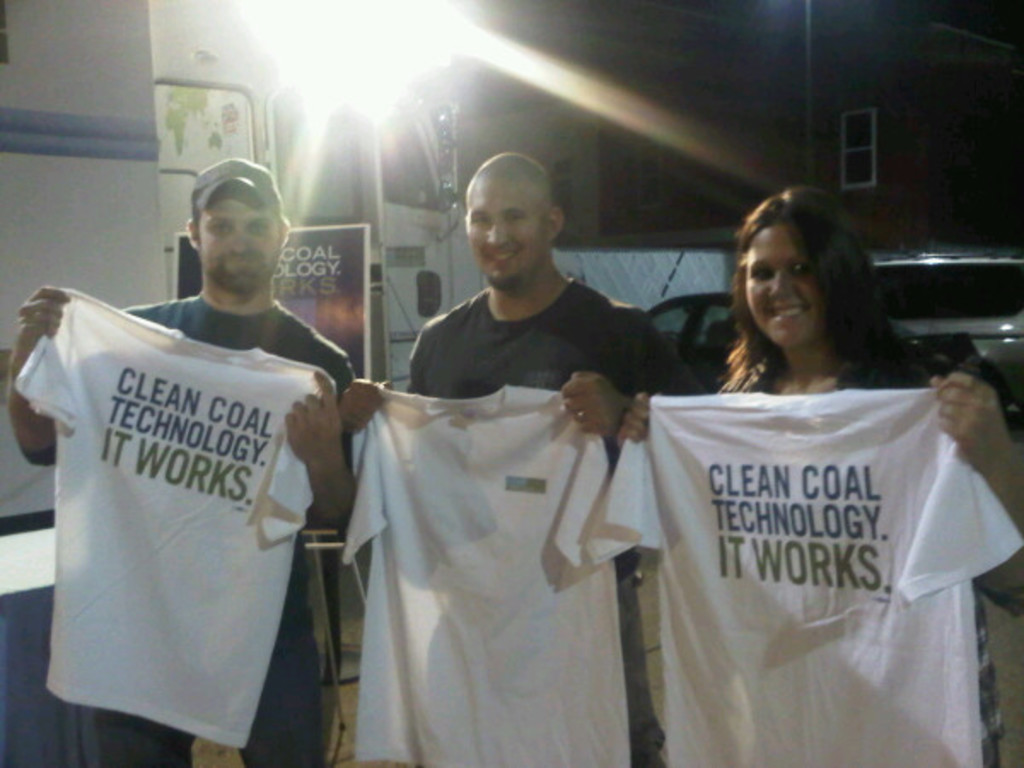Human-face: (742, 222, 829, 346), (464, 172, 548, 287), (195, 188, 283, 288)
